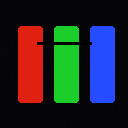3 line_h: (37, 42, 91, 44)
